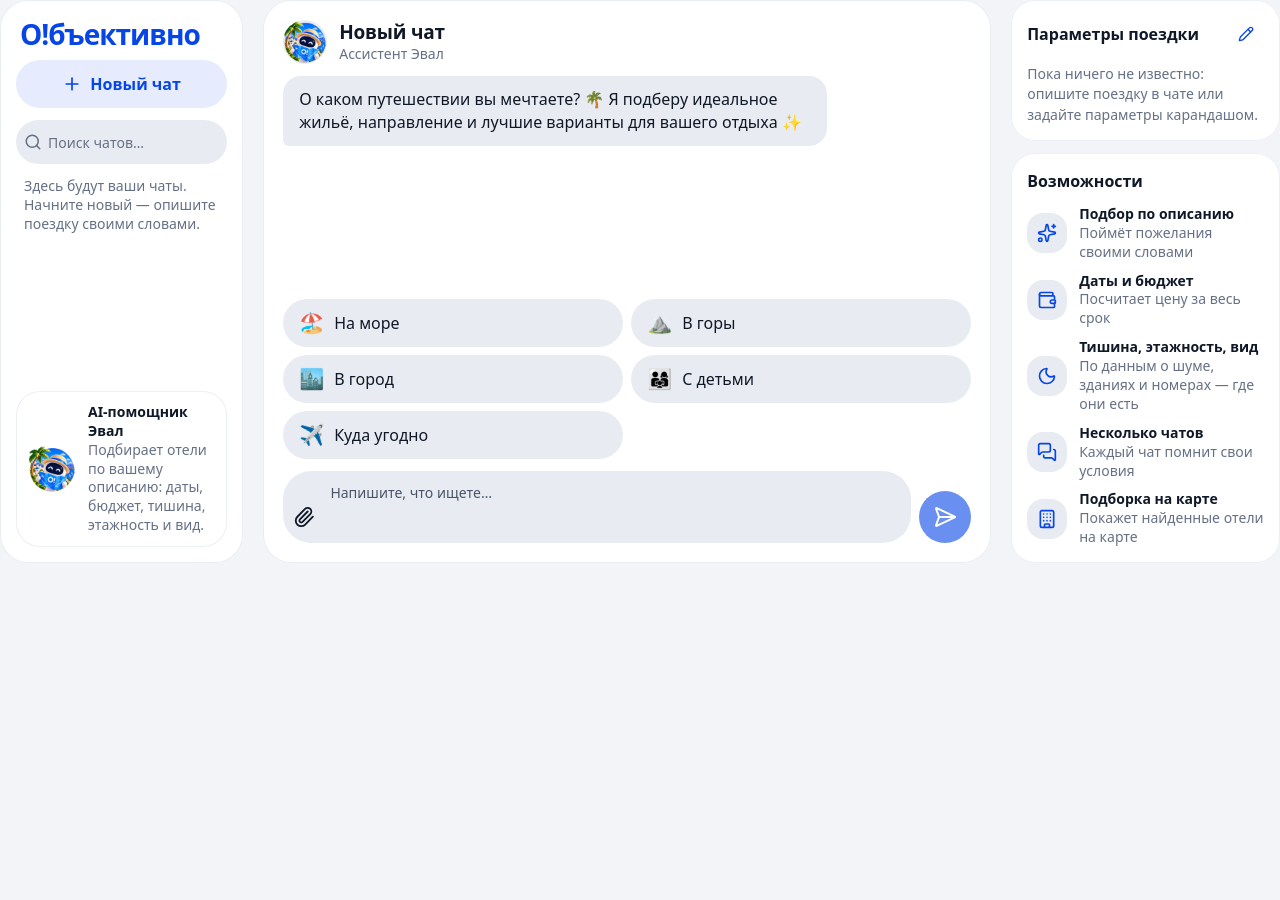
Test case: AssistantSearch with the model › reads the wish with the rules when the route fails, without an error (Scenario: Модель недоступна)
The width and height of the screenshot is (1280, 900).
Type "Хочу на море в октябре, бюджет до 70 000 ₽" into the text box named "Опишите поездку" at coordinates (613, 507), box 330,475 -> 895,539
Then press Enter
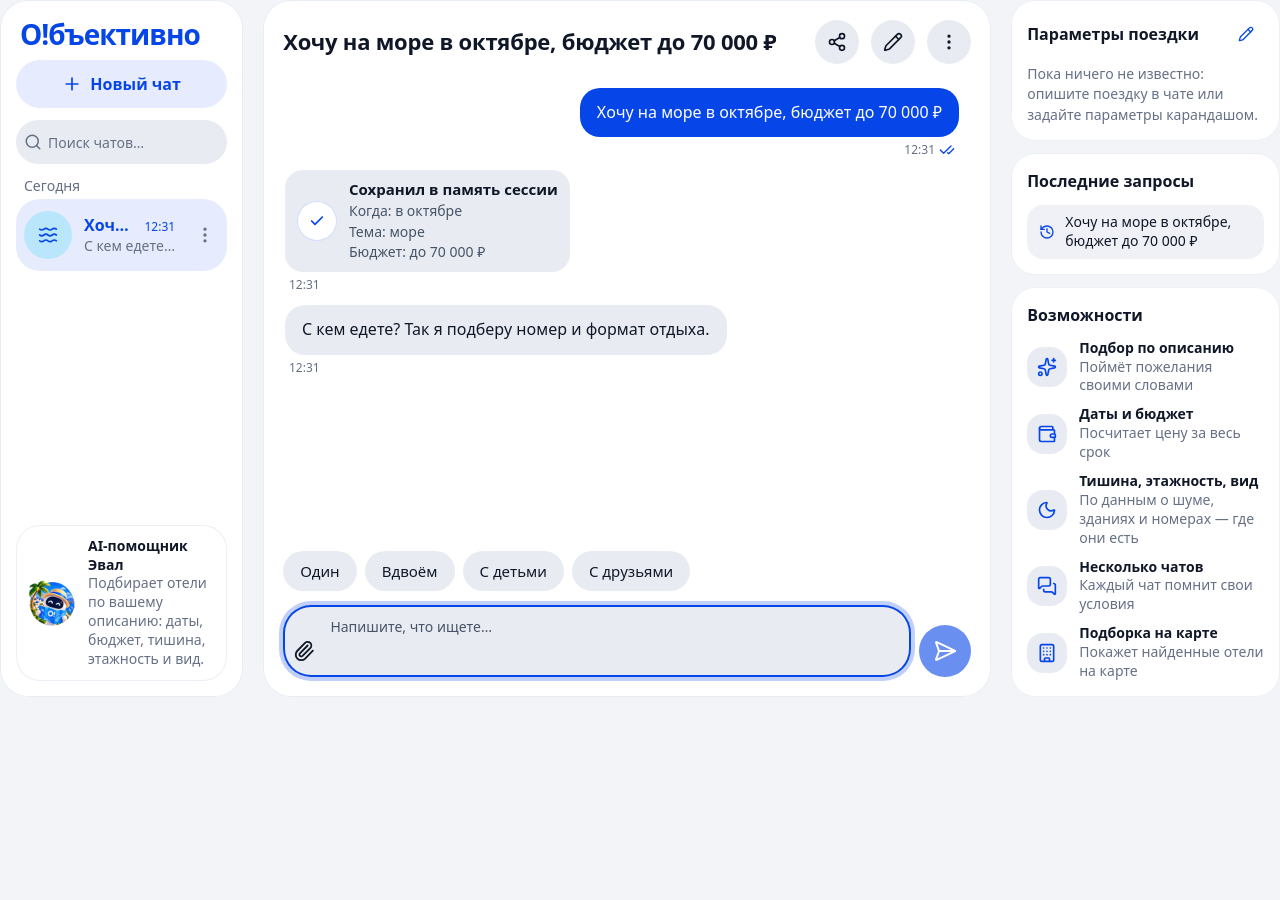
Expected: the text "С кем едете? Так я подберу номер и формат отдыха." below "Бюджет: до 70 000 ₽" is shown, 302,318 -> 710,340
Expected: the text "Когда: в октябре" is shown, 349,201 -> 462,220
